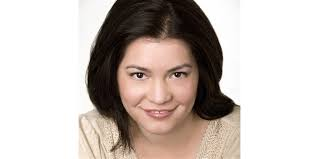asian_female: (99, 1, 230, 156)
